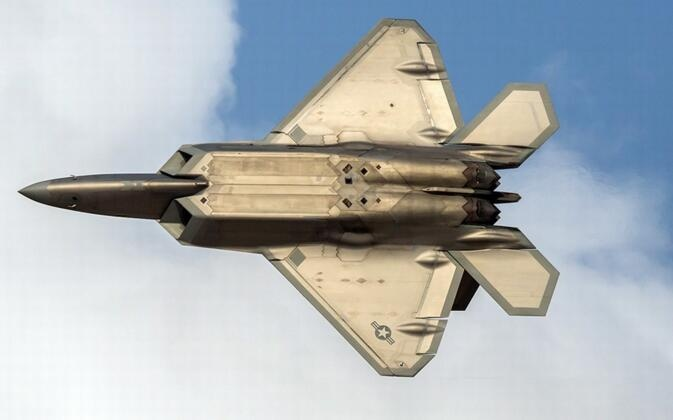airplane: (10, 14, 561, 377)
